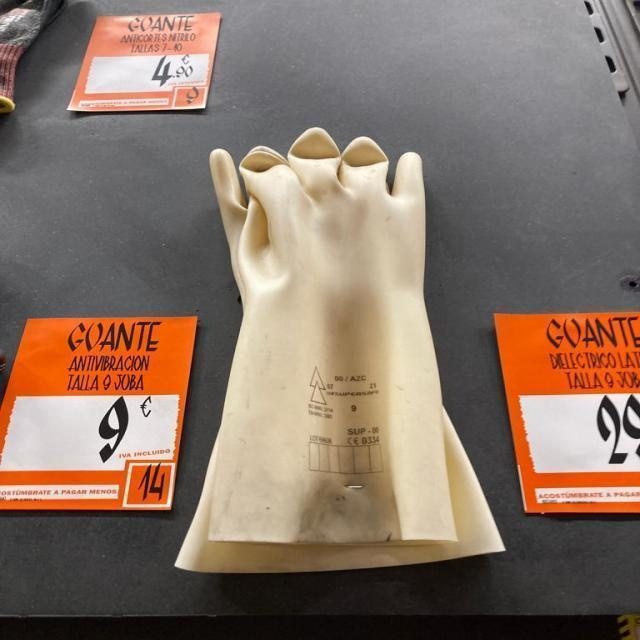Guantes: (231, 156, 459, 582)
